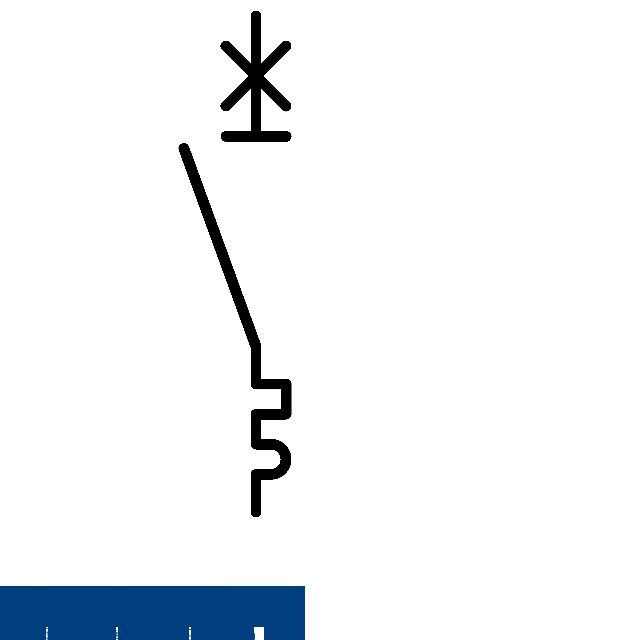interruptor_termomagnetico: (171, 3, 299, 525)
